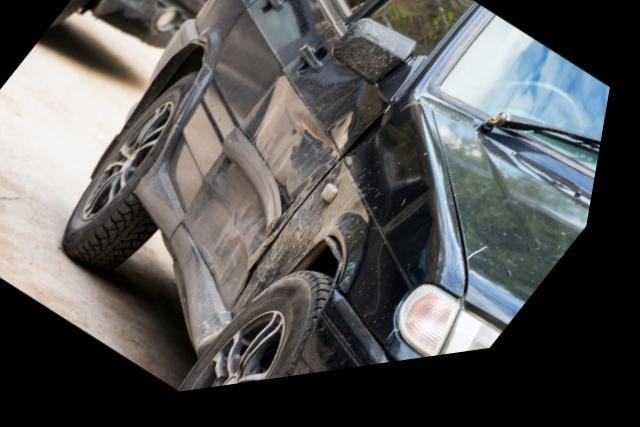dent: (188, 86, 366, 312)
